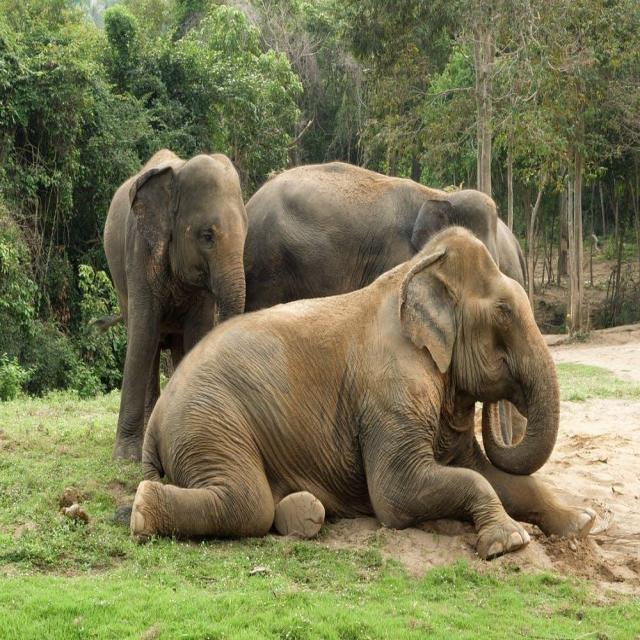Elephant: (130, 225, 598, 546), (100, 142, 262, 478), (240, 160, 521, 296)
